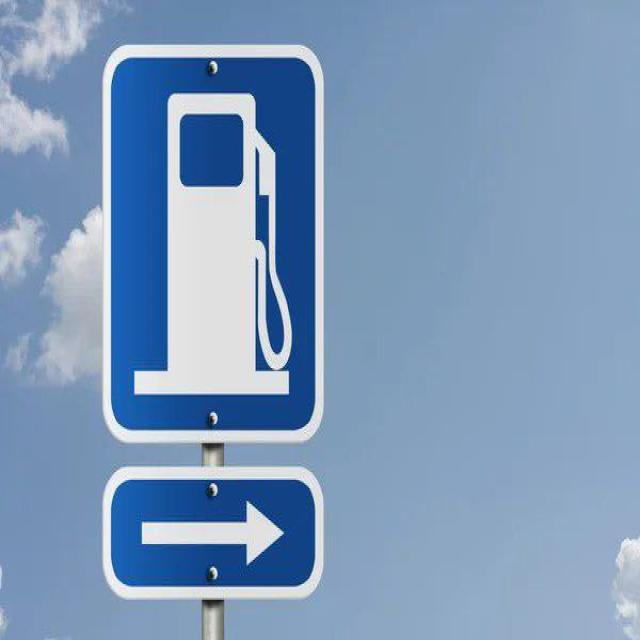petrol_station: (104, 42, 318, 437)
